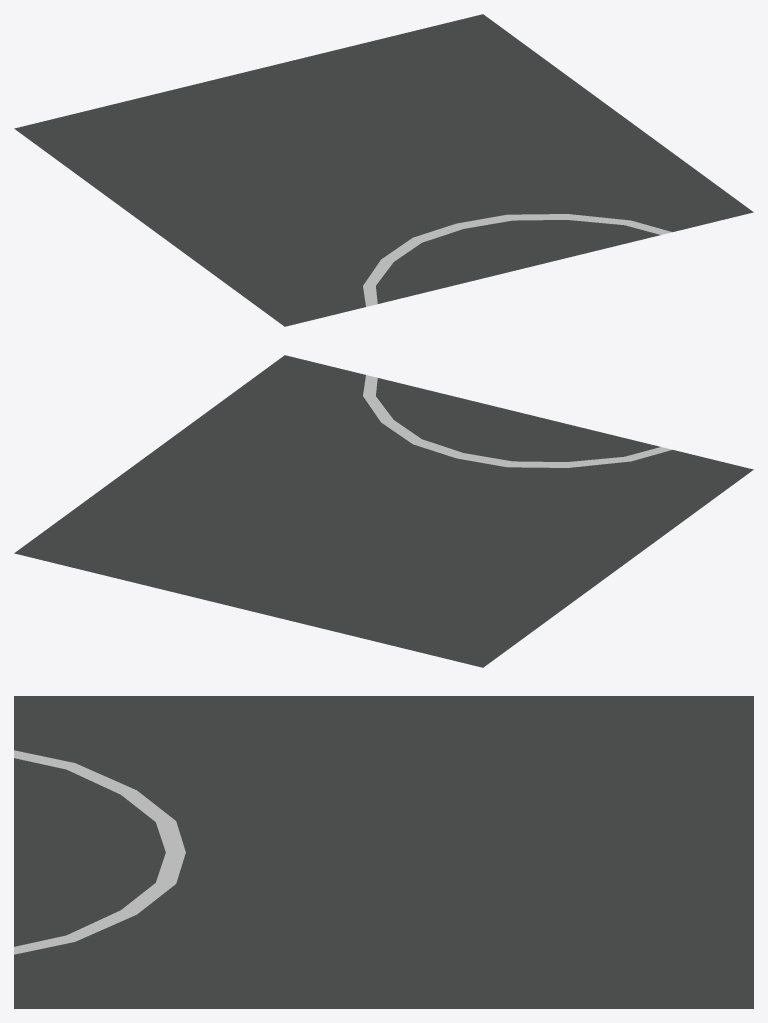
The model's file is smallStreet_12.fbx.
3 views of the same model, one above another, from view 1: azimuth 30°, elevation 25°; view 2: azimuth 150°, elevation 25°; view 3: azimuth 270°, elevation 25° (orthographic). The views are drawn at different scales.
Visible parts, largest first — view 1: smallStreet_12; view 2: smallStreet_12; view 3: smallStreet_12.
Part boxes in pixels (x1=…): smallStreet_12: x1=14, y1=14, x2=753, y2=326; smallStreet_12: x1=14, y1=355, x2=753, y2=667; smallStreet_12: x1=14, y1=696, x2=753, y2=1008.
Size of the model in its own units: 375 by 0 by 375.
